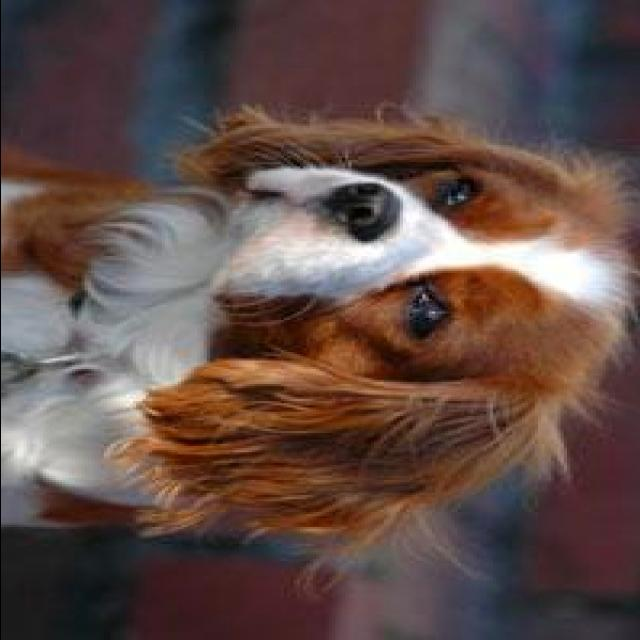blenheim_spaniel: (4, 113, 618, 531)
